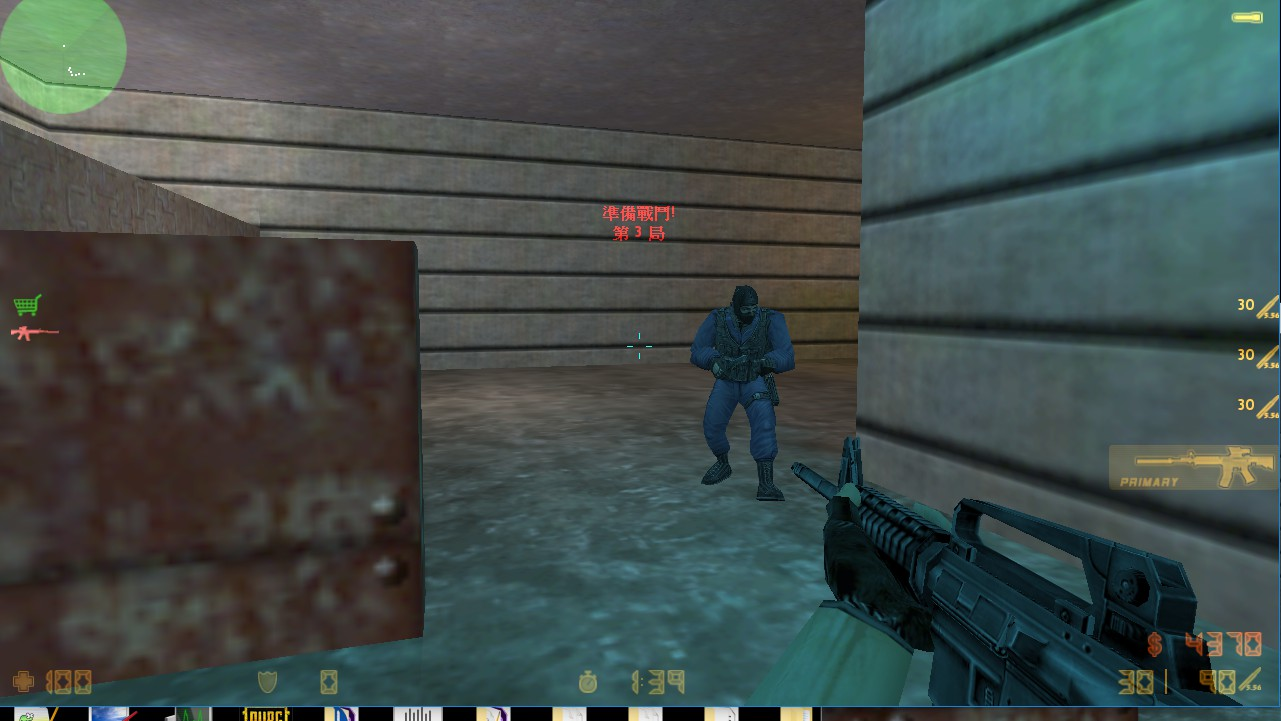person: (684, 275, 801, 513)
